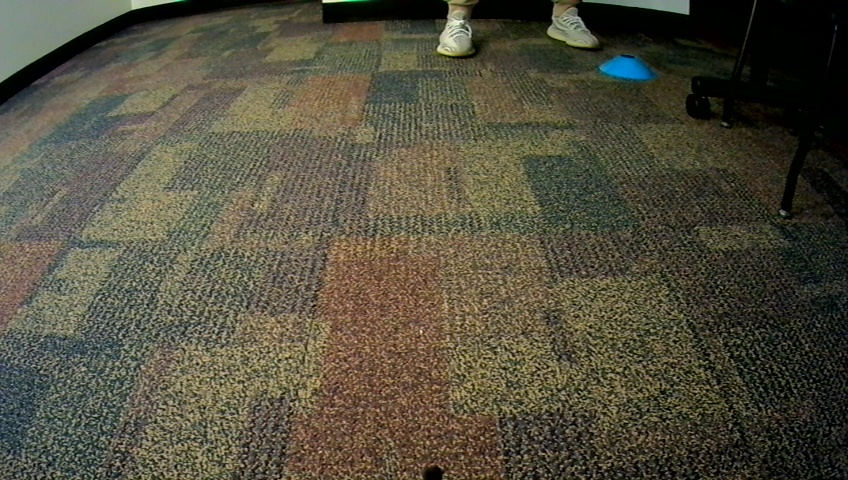cone: (597, 50, 657, 82)
